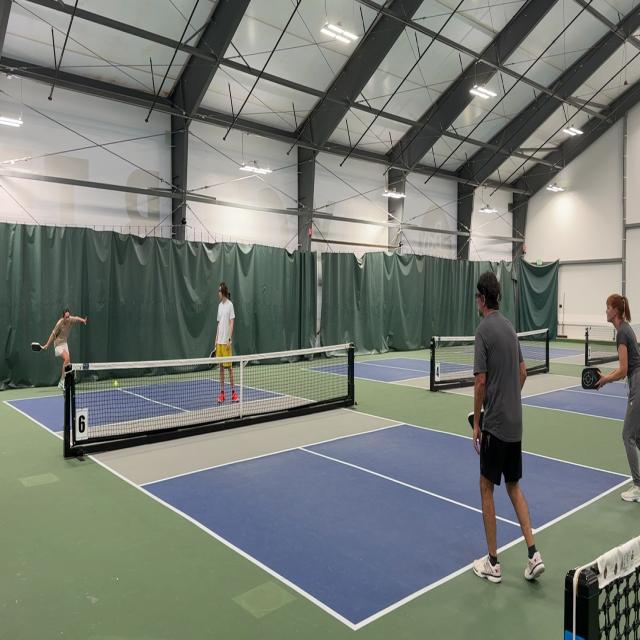ball: (114, 380, 118, 387)
